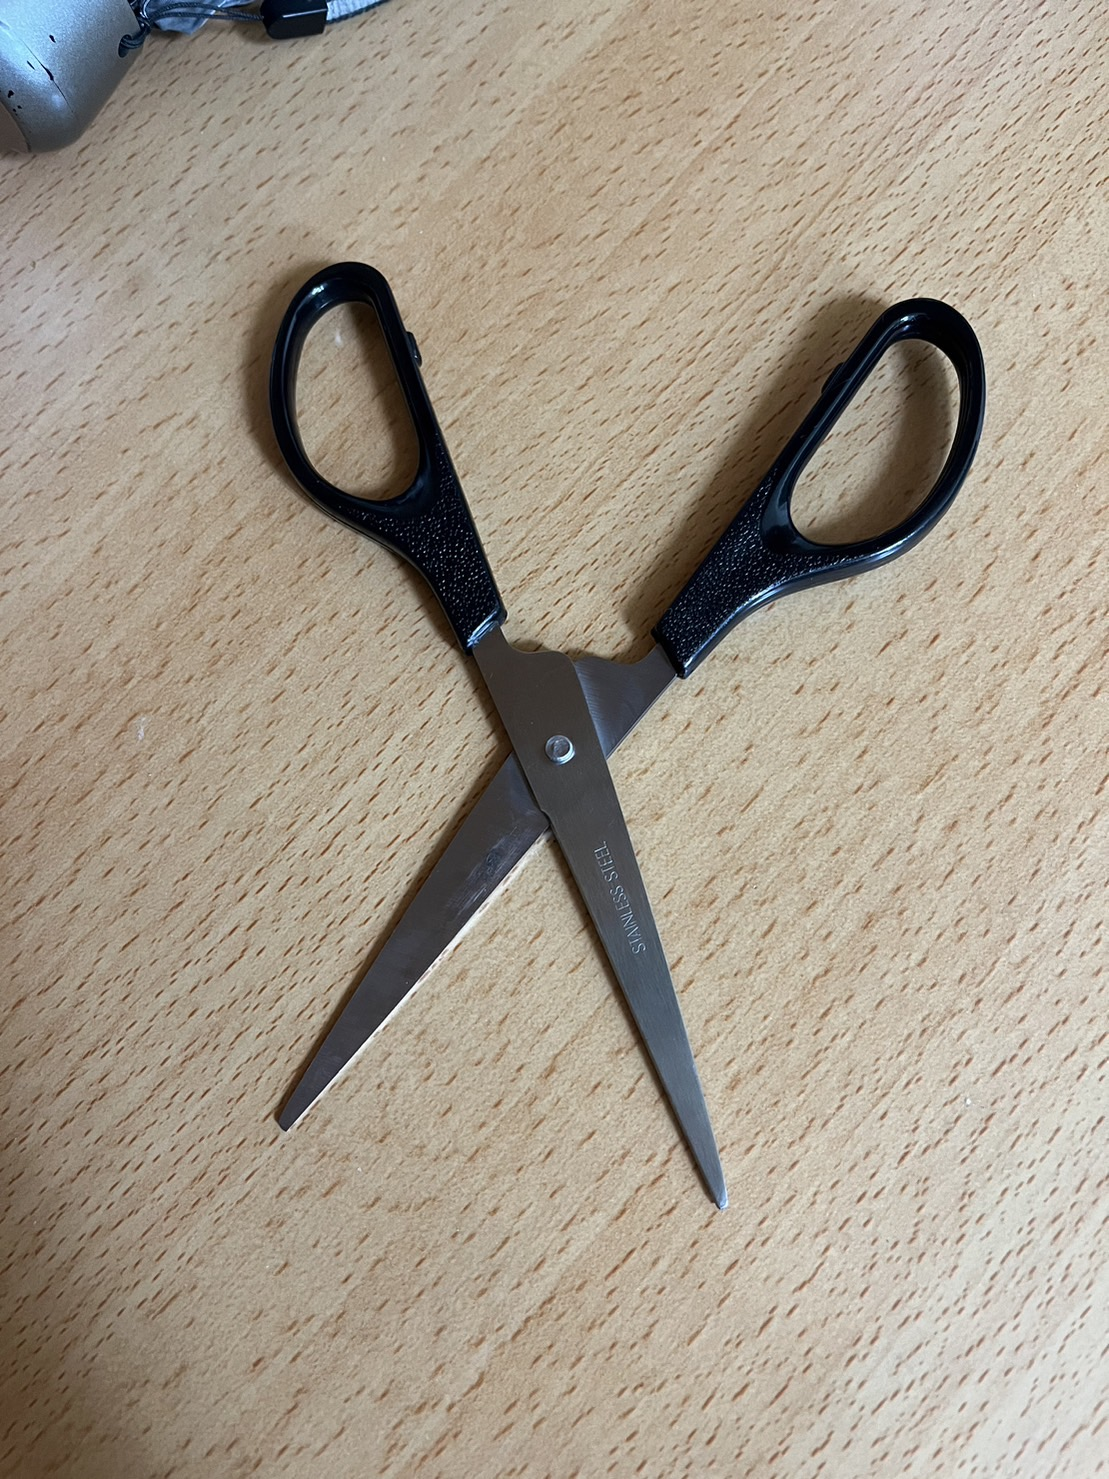scissor: (222, 220, 999, 1271)
